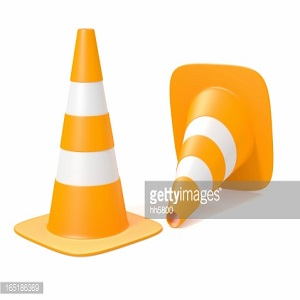traffic cone: (14, 28, 163, 257), (165, 63, 274, 229)
